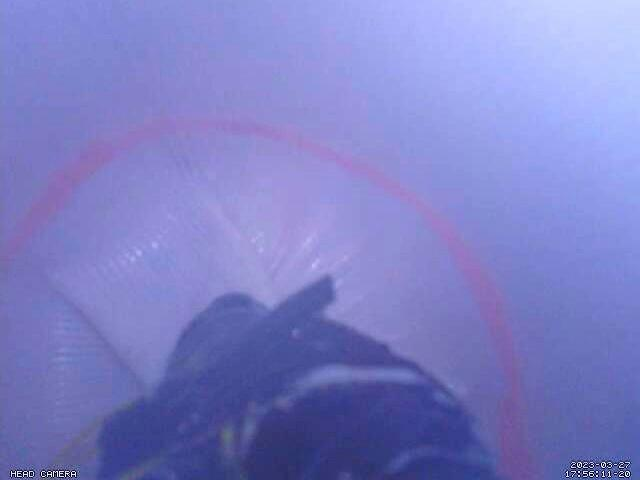head: (0, 116, 535, 480)
